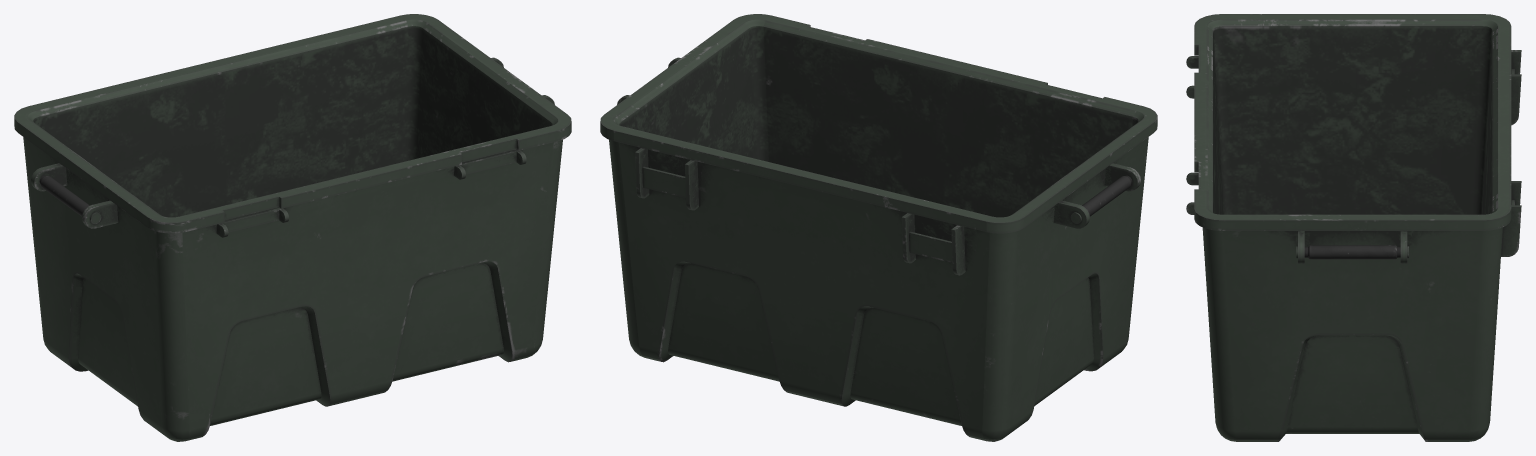
File: SM_MilitaryCrate_02_base.fbx
3 views of the same model, side by side, from view 1: azimuth 30°, elevation 25°; view 2: azimuth 150°, elevation 25°; view 3: azimuth 270°, elevation 25° (orthographic).
Parts seen in each view (by area): view 1: SM_MilitaryCrate_02_base_LOD0; view 2: SM_MilitaryCrate_02_base_LOD0; view 3: SM_MilitaryCrate_02_base_LOD0.
Part boxes in pixels (x1,y1,x2,y2): SM_MilitaryCrate_02_base_LOD0: (14,14,571,441); SM_MilitaryCrate_02_base_LOD0: (600,14,1157,441); SM_MilitaryCrate_02_base_LOD0: (1186,14,1521,441).
Size of the model in its own units: 110 by 67.72 by 53.39.
Materials: 1 (1 with a texture image).
